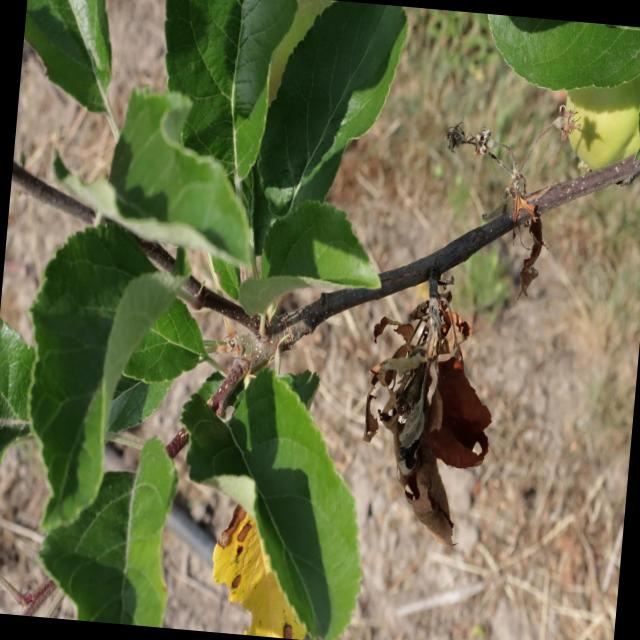-FireBlight-: (352, 297, 525, 561)
